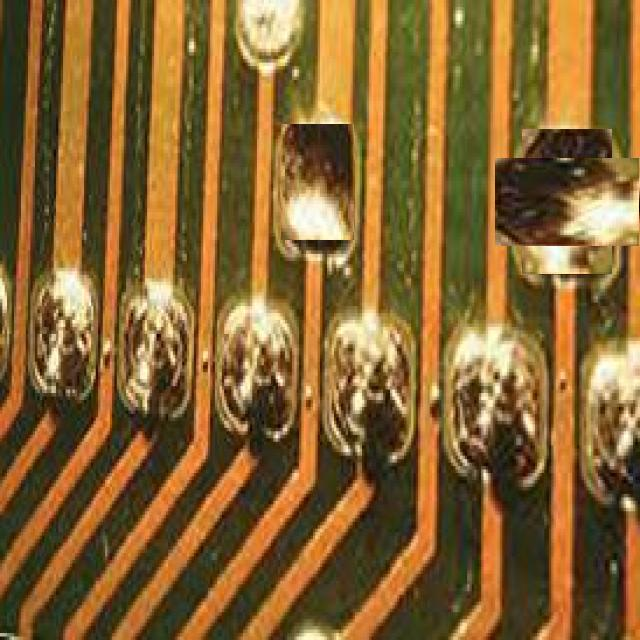redundant: (496, 158, 639, 246), (281, 124, 354, 240)
